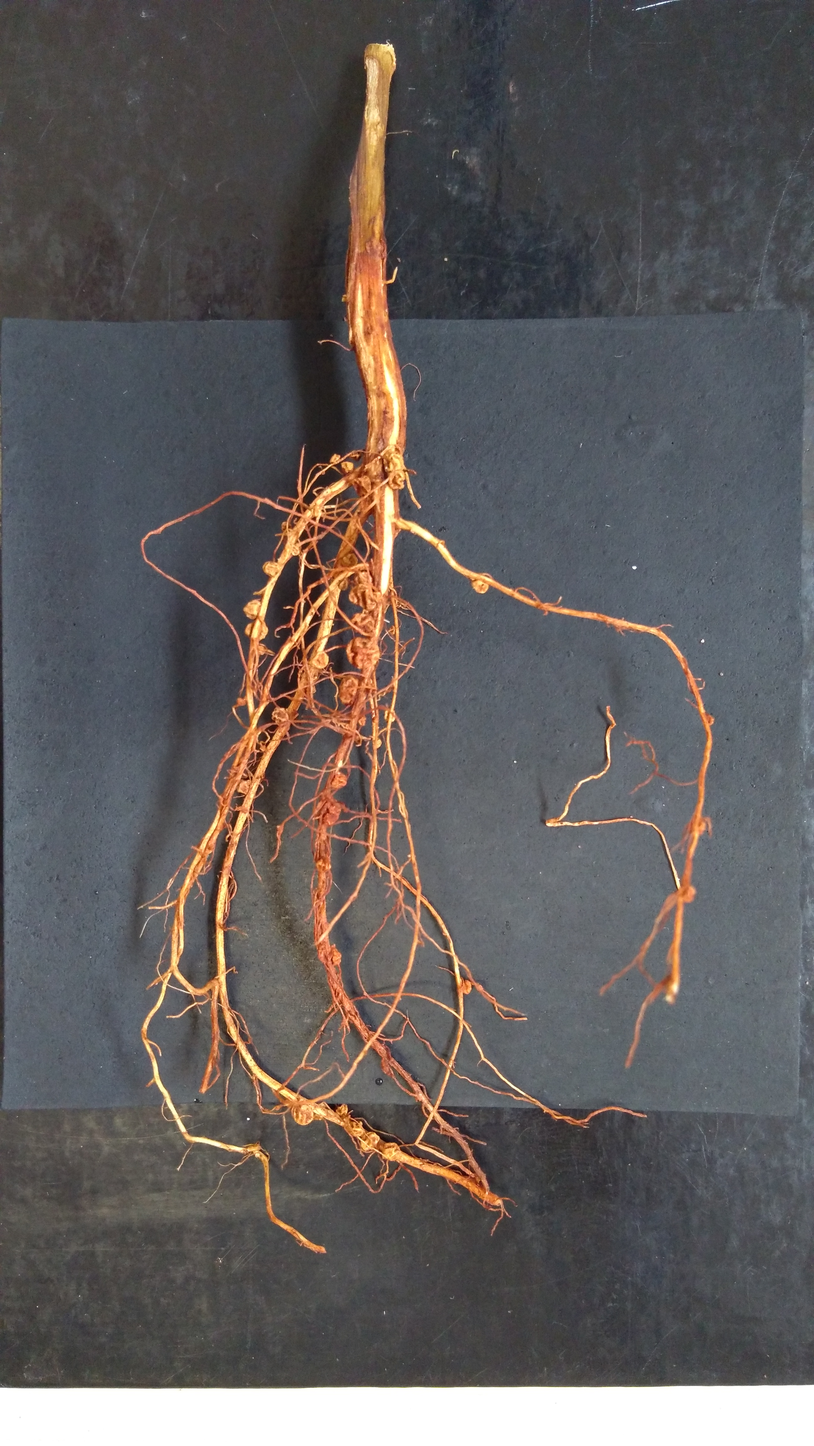nodule: (344, 636, 382, 671), (380, 450, 408, 492), (348, 582, 378, 611), (337, 675, 359, 705), (349, 611, 376, 634), (290, 1104, 315, 1126), (243, 620, 269, 641), (350, 475, 373, 497), (322, 802, 342, 826), (351, 569, 376, 588), (308, 650, 331, 670), (365, 460, 385, 483), (468, 576, 493, 594), (359, 1131, 380, 1152), (242, 598, 262, 620), (381, 1142, 402, 1162), (271, 706, 291, 726), (260, 559, 281, 578), (330, 771, 350, 789), (688, 819, 706, 836), (681, 885, 697, 904), (235, 778, 251, 795), (341, 552, 359, 566), (331, 948, 342, 966), (349, 1120, 363, 1134), (340, 461, 355, 474), (337, 578, 350, 592), (336, 1102, 349, 1116), (348, 451, 364, 462), (463, 979, 473, 996), (383, 709, 396, 722), (328, 452, 341, 464), (290, 543, 301, 557), (706, 712, 716, 727), (255, 644, 266, 657), (351, 1127, 364, 1138), (280, 521, 293, 531), (357, 716, 368, 727), (236, 697, 247, 707), (375, 738, 383, 749)
